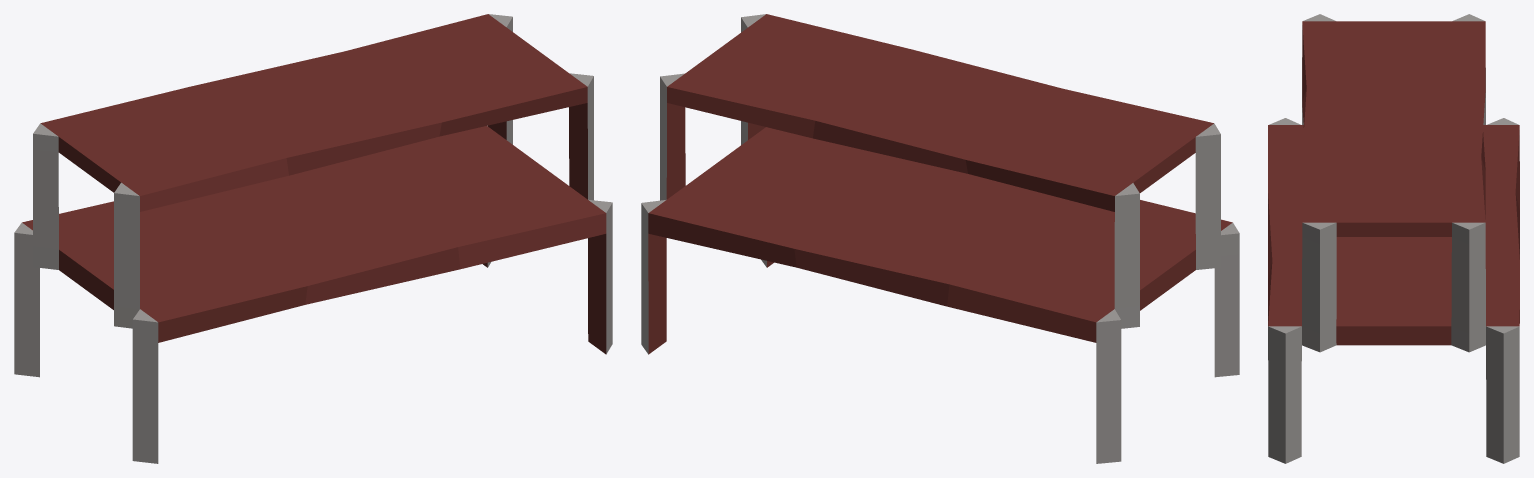
The model's file is SM_Prop_Shelves_02.glb.
3 renders of one model, left to right at view 1: azimuth 30°, elevation 25°; view 2: azimuth 150°, elevation 25°; view 3: azimuth 270°, elevation 25°, orthographic. The views are drawn at different scales.
Parts seen in each view (by area): view 1: SM_Prop_Shelves_02; view 2: SM_Prop_Shelves_02; view 3: SM_Prop_Shelves_02.
Part boxes in pixels (x1=…): SM_Prop_Shelves_02: x1=14, y1=14, x2=612, y2=463; SM_Prop_Shelves_02: x1=641, y1=14, x2=1239, y2=463; SM_Prop_Shelves_02: x1=1268, y1=14, x2=1519, y2=463.
Bounding box in the file's own units: 2.39 × 1.21 × 1.18.
1 material, 1 textured.
